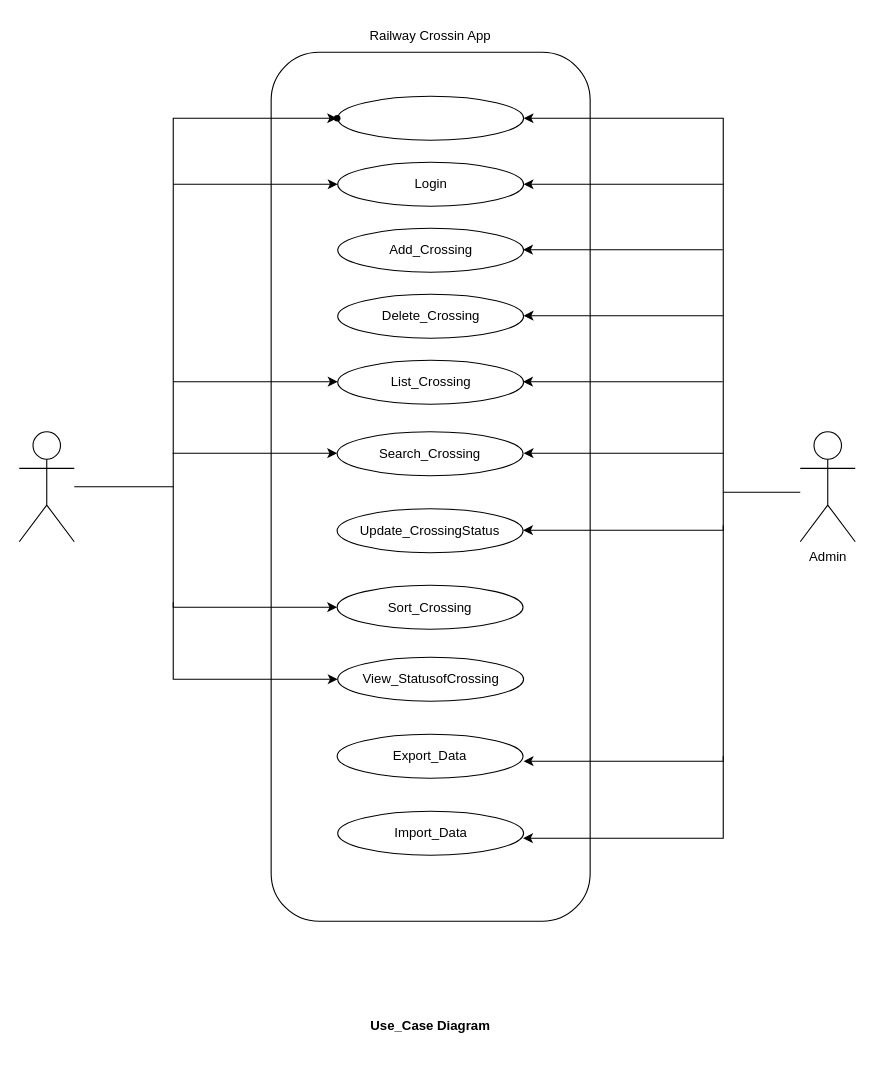
The diagram is 875 pixels wide and 1071 high, and some of its shapes have lost their labels. The centre of each missing label's shape, as x and y in pixels:
Register: [430,117]
User: [46,486]
